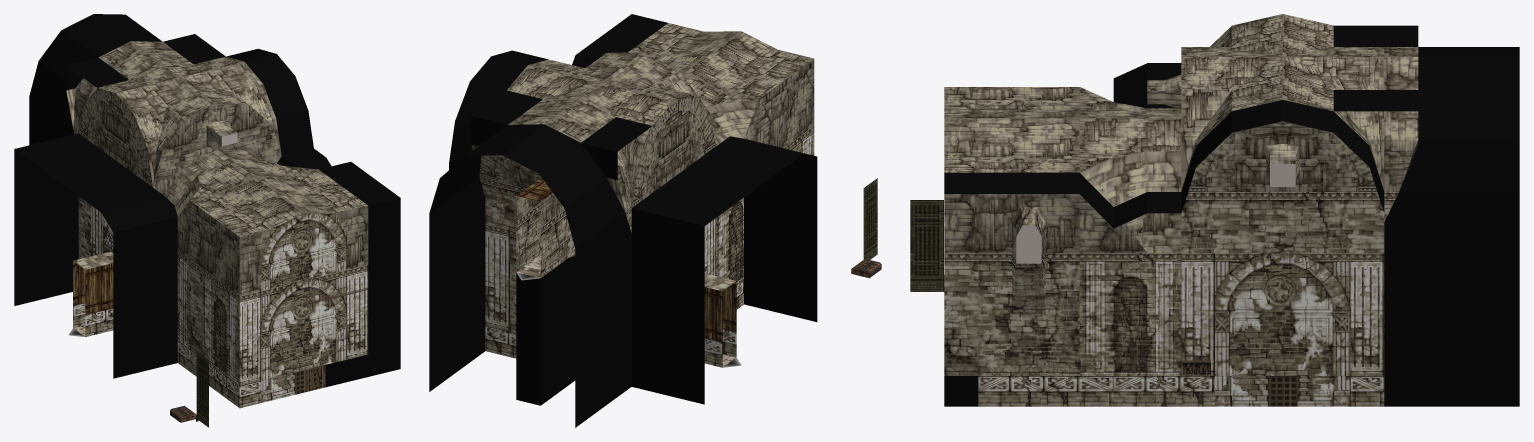
The model's file is MAP050.obj.
The picture shows the model from 3 angles, left to right: view 1: azimuth 30°, elevation 25°; view 2: azimuth 150°, elevation 25°; view 3: azimuth 270°, elevation 25°; orthographic projection. The views are drawn at different scales.
Visible parts, largest first — view 1: mesh_46, mesh_60, mesh_59, mesh_78, mesh_58, mesh_86, mesh_39, mesh_79, mesh_85, mesh_80, mesh_35, mesh_77 (+18 smaller); view 2: mesh_60, mesh_58, mesh_46, mesh_56, mesh_59, mesh_39, mesh_18, mesh_85, mesh_92, mesh_90, mesh_34, mesh_86 (+13 smaller); view 3: mesh_58, mesh_46, mesh_73, mesh_75, mesh_59, mesh_24, mesh_74, mesh_23, mesh_26, mesh_27, mesh_68, mesh_72 (+17 smaller).
Part boxes in pixels (x1,y1,x2,y2): mesh_46: (98, 41, 367, 236); mesh_60: (14, 133, 177, 378); mesh_59: (226, 48, 400, 376); mesh_78: (261, 213, 346, 380); mesh_58: (29, 14, 162, 145); mesh_86: (91, 205, 239, 385); mesh_39: (79, 88, 152, 187); mesh_79: (239, 206, 368, 295); mesh_85: (177, 217, 239, 295); mesh_80: (239, 291, 261, 385); mesh_35: (73, 303, 239, 407); mesh_77: (347, 265, 368, 359); mesh_60: (631, 136, 817, 404); mesh_58: (429, 124, 631, 427); mesh_46: (507, 23, 813, 146); mesh_56: (516, 258, 568, 405); mesh_59: (449, 14, 667, 169); mesh_39: (631, 95, 715, 207); mesh_18: (479, 177, 575, 281); mesh_85: (744, 87, 814, 148); mesh_92: (581, 117, 652, 180); mesh_90: (471, 90, 542, 146); mesh_34: (744, 59, 814, 138); mesh_86: (704, 126, 814, 256); mesh_58: (1384, 47, 1519, 406); mesh_46: (944, 14, 1418, 206); mesh_73: (978, 192, 1384, 375); mesh_75: (1079, 253, 1384, 314); mesh_59: (944, 100, 1384, 228); mesh_24: (1188, 121, 1377, 191); mesh_74: (1215, 253, 1350, 314); mesh_23: (944, 194, 1147, 253); mesh_26: (1215, 314, 1350, 375); mesh_27: (1113, 314, 1384, 375); mesh_68: (1079, 376, 1384, 406); mesh_72: (944, 207, 1181, 253).
Size of the model in its own units: 134 by 130 by 231.
Materials: 21 (21 with a texture image).
